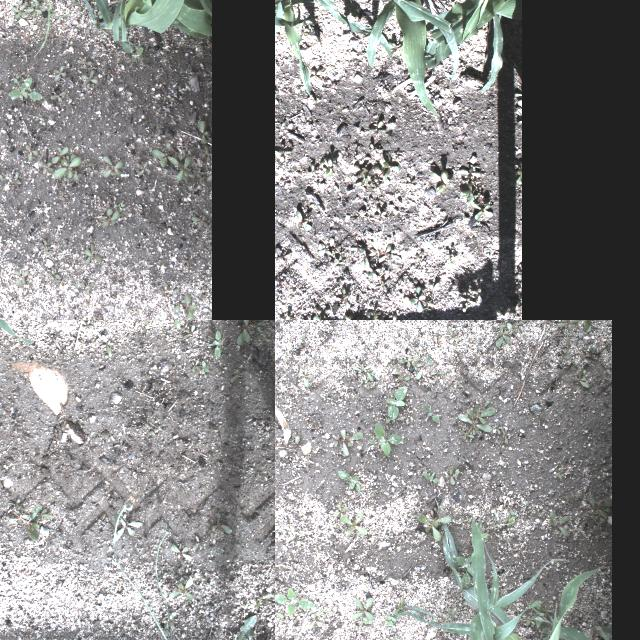crop: (396, 520, 601, 640), (313, 0, 459, 130), (427, 0, 521, 94), (83, 0, 187, 40), (548, 622, 609, 640)
weed: (113, 496, 275, 640), (36, 144, 100, 183), (149, 143, 205, 183), (31, 1, 68, 61), (6, 498, 52, 540), (456, 404, 496, 438), (366, 422, 404, 456), (7, 69, 43, 103), (275, 586, 314, 616), (415, 512, 451, 542), (332, 428, 363, 456), (98, 200, 124, 232), (225, 614, 257, 640), (458, 154, 482, 188), (385, 384, 405, 424), (173, 290, 199, 318), (339, 510, 367, 536), (120, 41, 150, 65), (98, 156, 130, 178), (5, 0, 44, 18), (468, 195, 492, 222), (237, 320, 263, 344), (196, 118, 210, 162), (114, 518, 142, 540), (82, 243, 106, 267), (427, 168, 451, 192), (168, 578, 194, 600), (548, 511, 570, 537), (586, 497, 612, 518), (188, 210, 208, 237), (17, 140, 39, 164), (351, 596, 373, 620), (408, 286, 428, 312), (206, 330, 224, 358), (414, 354, 434, 378), (488, 510, 514, 528), (131, 157, 153, 177), (379, 241, 401, 261), (380, 160, 400, 182), (360, 167, 380, 189), (210, 513, 232, 533), (338, 470, 358, 492), (494, 322, 511, 346), (352, 366, 381, 380), (537, 620, 557, 640), (12, 264, 30, 286), (458, 289, 474, 313), (294, 210, 310, 232), (333, 282, 349, 304), (571, 365, 587, 387), (50, 85, 68, 104), (422, 404, 441, 422), (349, 235, 369, 252), (468, 278, 482, 302), (161, 612, 175, 636), (76, 278, 94, 296), (178, 252, 196, 270), (46, 268, 66, 284), (171, 545, 191, 561), (444, 465, 460, 485), (297, 368, 313, 388), (444, 605, 456, 631), (52, 62, 68, 80), (275, 143, 290, 162), (82, 68, 96, 88), (364, 264, 384, 278), (99, 334, 113, 354), (534, 600, 544, 628), (397, 354, 417, 368), (320, 156, 332, 178), (368, 118, 384, 134), (256, 326, 272, 342), (444, 248, 458, 266), (557, 320, 582, 330), (8, 169, 20, 189), (74, 55, 94, 67), (422, 471, 440, 484), (316, 240, 332, 254), (256, 594, 272, 608), (332, 504, 348, 518), (588, 526, 610, 536), (565, 490, 587, 500), (326, 258, 344, 270), (230, 369, 248, 381), (583, 320, 599, 333), (193, 535, 207, 549), (184, 324, 198, 338), (388, 624, 400, 640), (364, 311, 384, 320), (393, 594, 403, 612), (429, 368, 445, 379), (386, 364, 396, 381), (306, 163, 318, 177), (114, 438, 126, 452), (447, 329, 459, 343), (44, 240, 54, 256), (514, 156, 520, 182), (48, 0, 79, 5), (492, 420, 503, 434), (310, 312, 328, 320), (301, 324, 309, 342), (384, 614, 396, 626), (374, 205, 384, 219), (199, 359, 209, 373), (535, 604, 549, 614), (394, 377, 410, 385), (309, 612, 317, 628), (34, 116, 48, 125), (386, 308, 396, 320), (563, 336, 569, 356), (554, 468, 564, 480), (312, 608, 331, 614), (277, 313, 292, 320), (79, 320, 92, 328), (157, 572, 167, 582), (525, 614, 535, 624), (263, 424, 271, 436), (502, 428, 508, 444), (170, 320, 180, 329), (590, 596, 600, 604), (290, 433, 298, 443), (192, 359, 198, 371), (539, 320, 550, 326), (136, 320, 149, 325), (228, 630, 236, 638), (149, 430, 159, 436), (275, 612, 283, 618), (513, 320, 522, 325), (105, 352, 112, 358), (436, 329, 440, 338), (146, 424, 150, 428)
